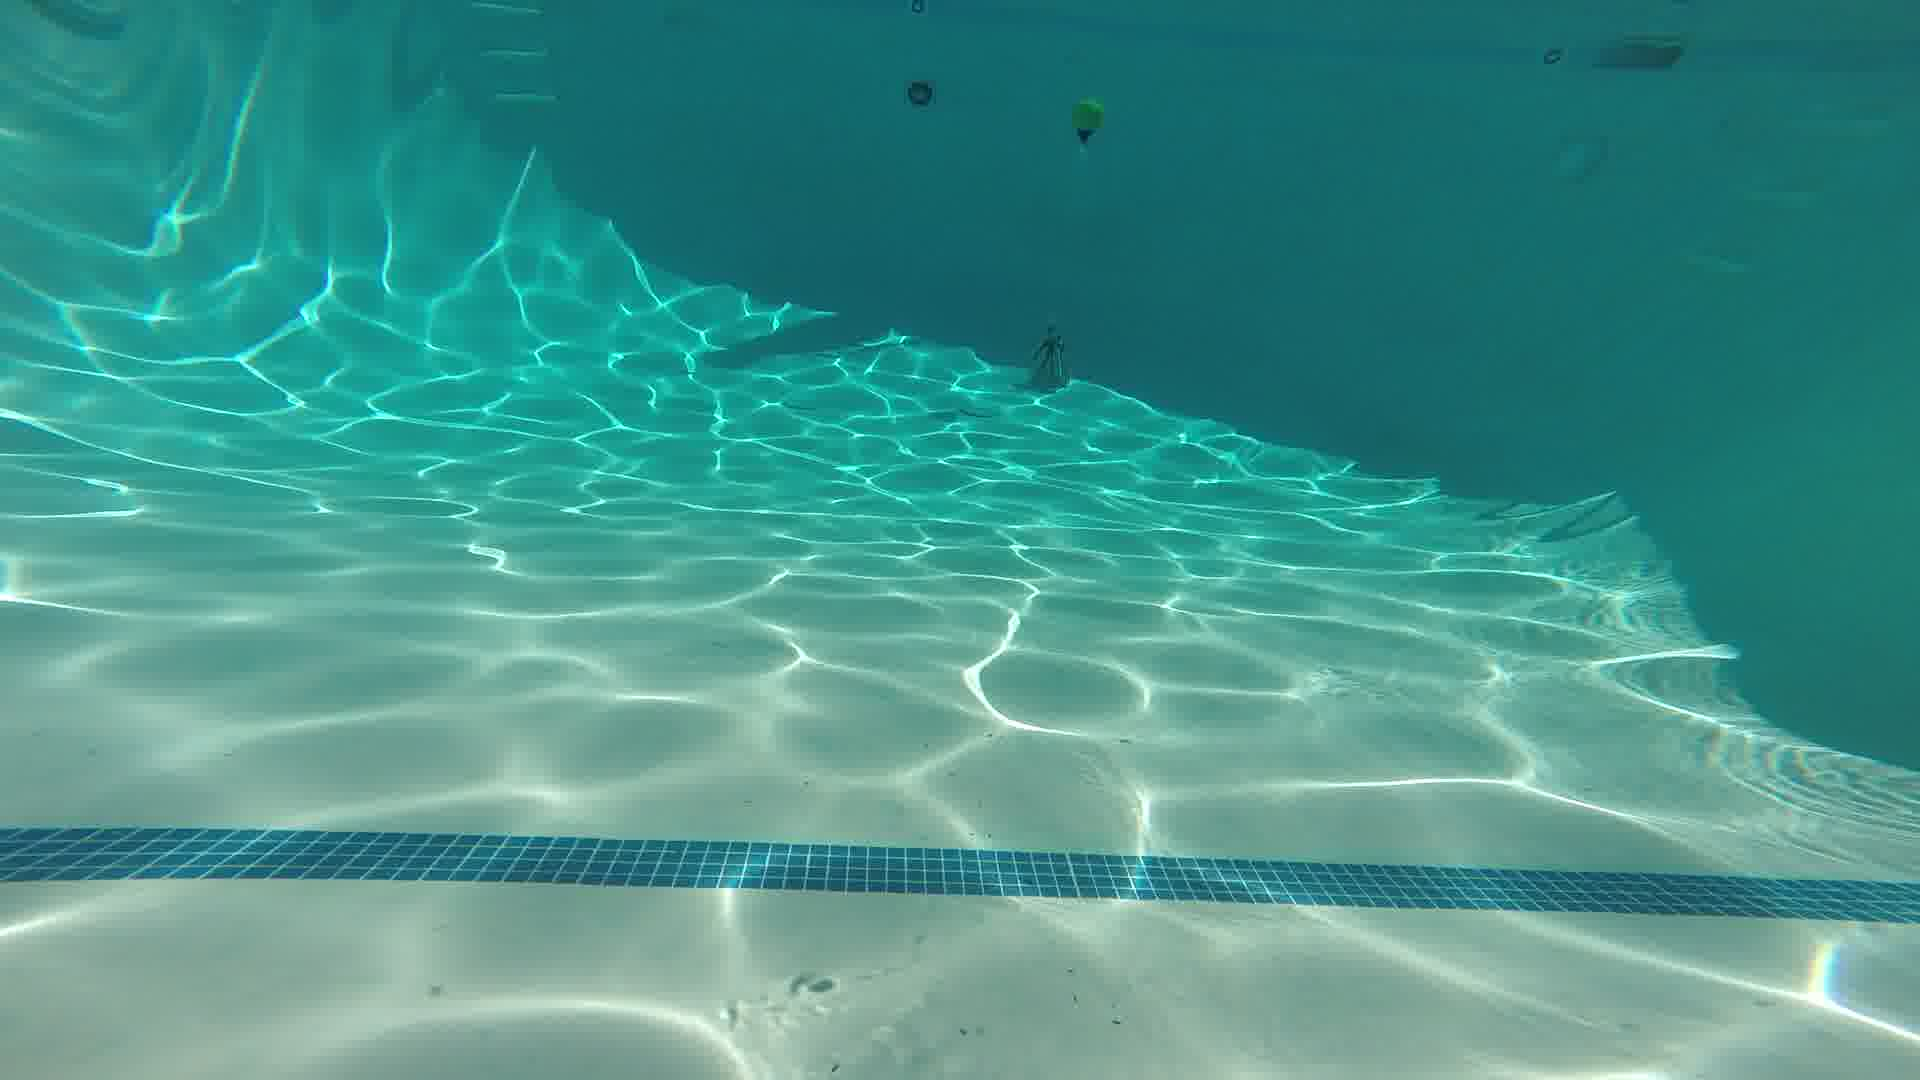yellow_buoy: (1064, 90, 1102, 156)
